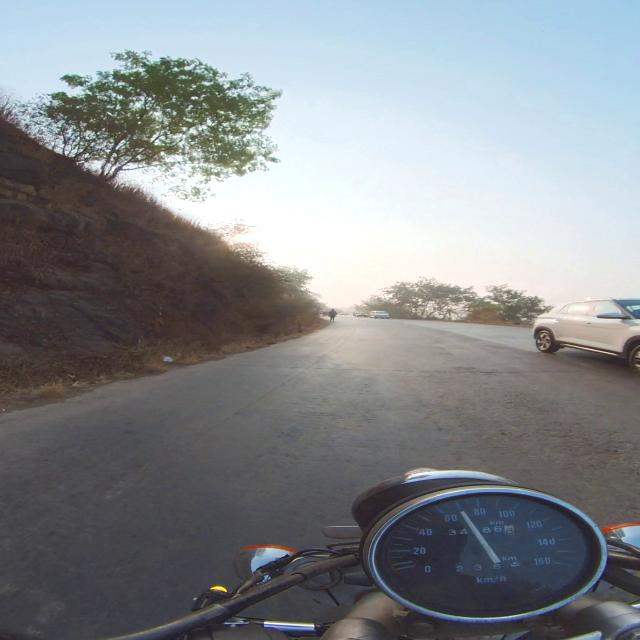car: (534, 298, 639, 373), (369, 311, 390, 318), (354, 312, 368, 317)
motorcycle: (112, 469, 639, 639)
